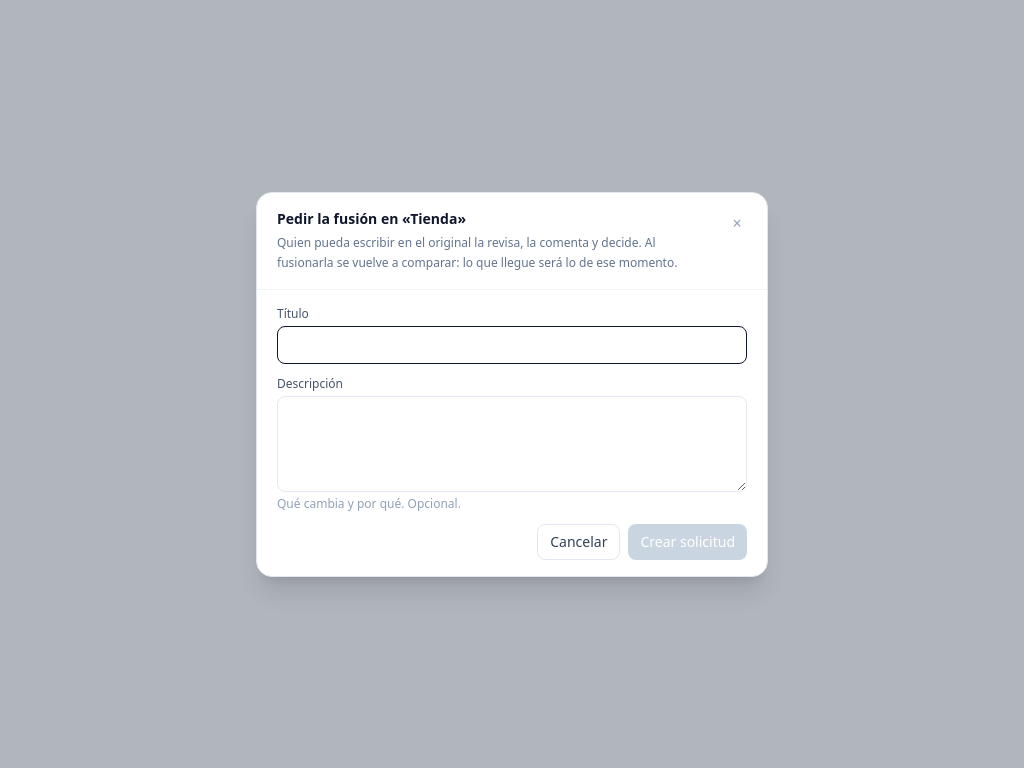
Test: pedir la fusión › un rechazo del servidor se queda en el diálogo
The width and height of the screenshot is (1024, 768).
Type "Algo" into the field at (512, 344), box [277,326,747,364]
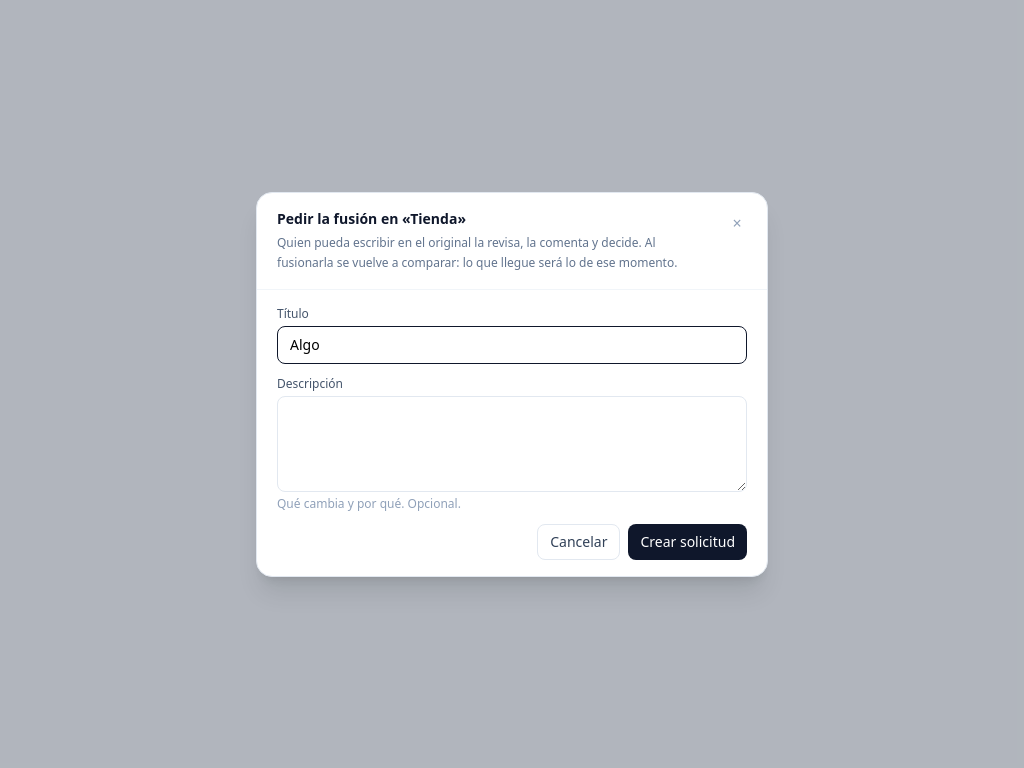
Click the button "Crear solicitud" at (688, 542), box [628,524,747,560]
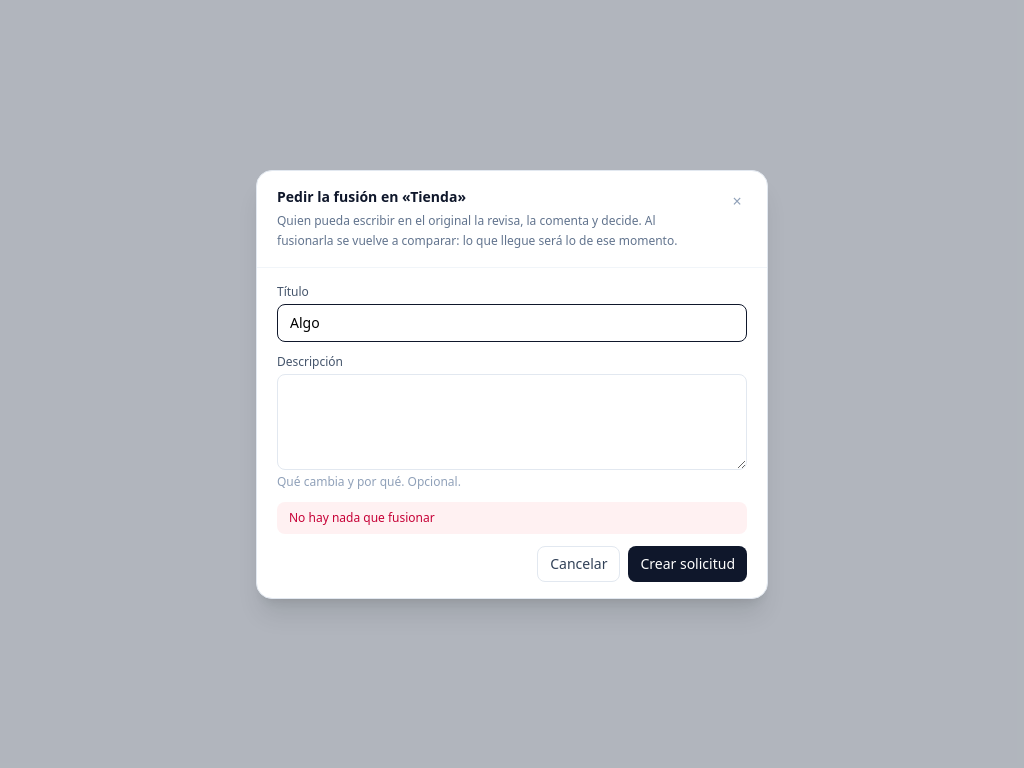
Expected: the text "No hay nada que fusionar" is shown, [277,502,747,534]
